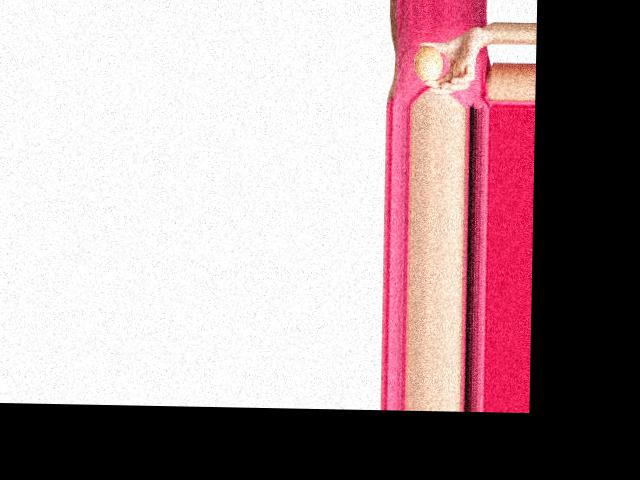egg: (414, 45, 443, 82)
